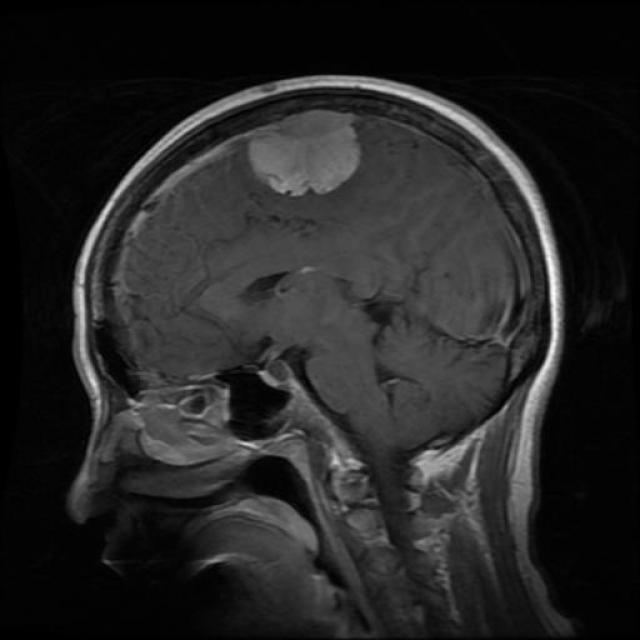meningioma: (248, 111, 360, 196)
